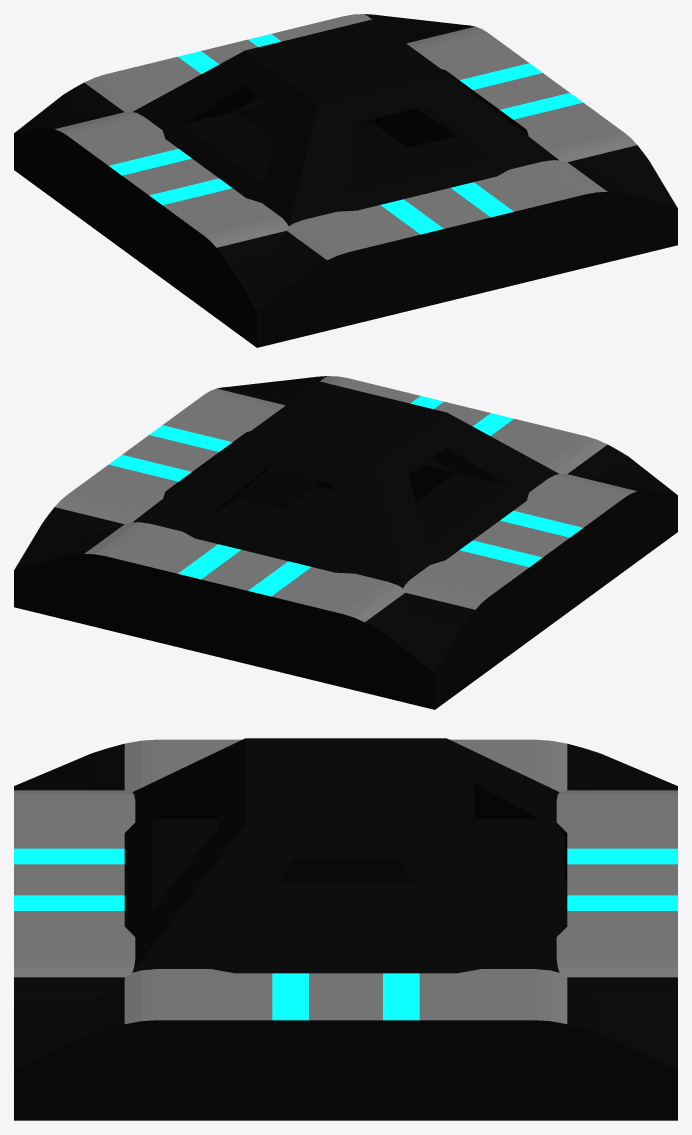
The model's file is playerSpawnNode.fbx.
The picture shows the model from 3 angles, top to bottom: view 1: azimuth 30°, elevation 25°; view 2: azimuth 150°, elevation 25°; view 3: azimuth 270°, elevation 25°; orthographic projection. The views are drawn at different scales.
Parts seen in each view (by area): view 1: Plane, Cube; view 2: Plane, Cube; view 3: Plane, Cube.
Boxes of the visible parts, x1=… form: Plane: x1=14, y1=14, x2=677, y2=347; Cube: x1=133, y1=19, x2=558, y2=225; Plane: x1=14, y1=376, x2=677, y2=709; Cube: x1=133, y1=381, x2=558, y2=587; Plane: x1=14, y1=739, x2=677, y2=1120; Cube: x1=127, y1=738, x2=564, y2=973.
Size of the model in its own units: 600 by 198 by 600.
